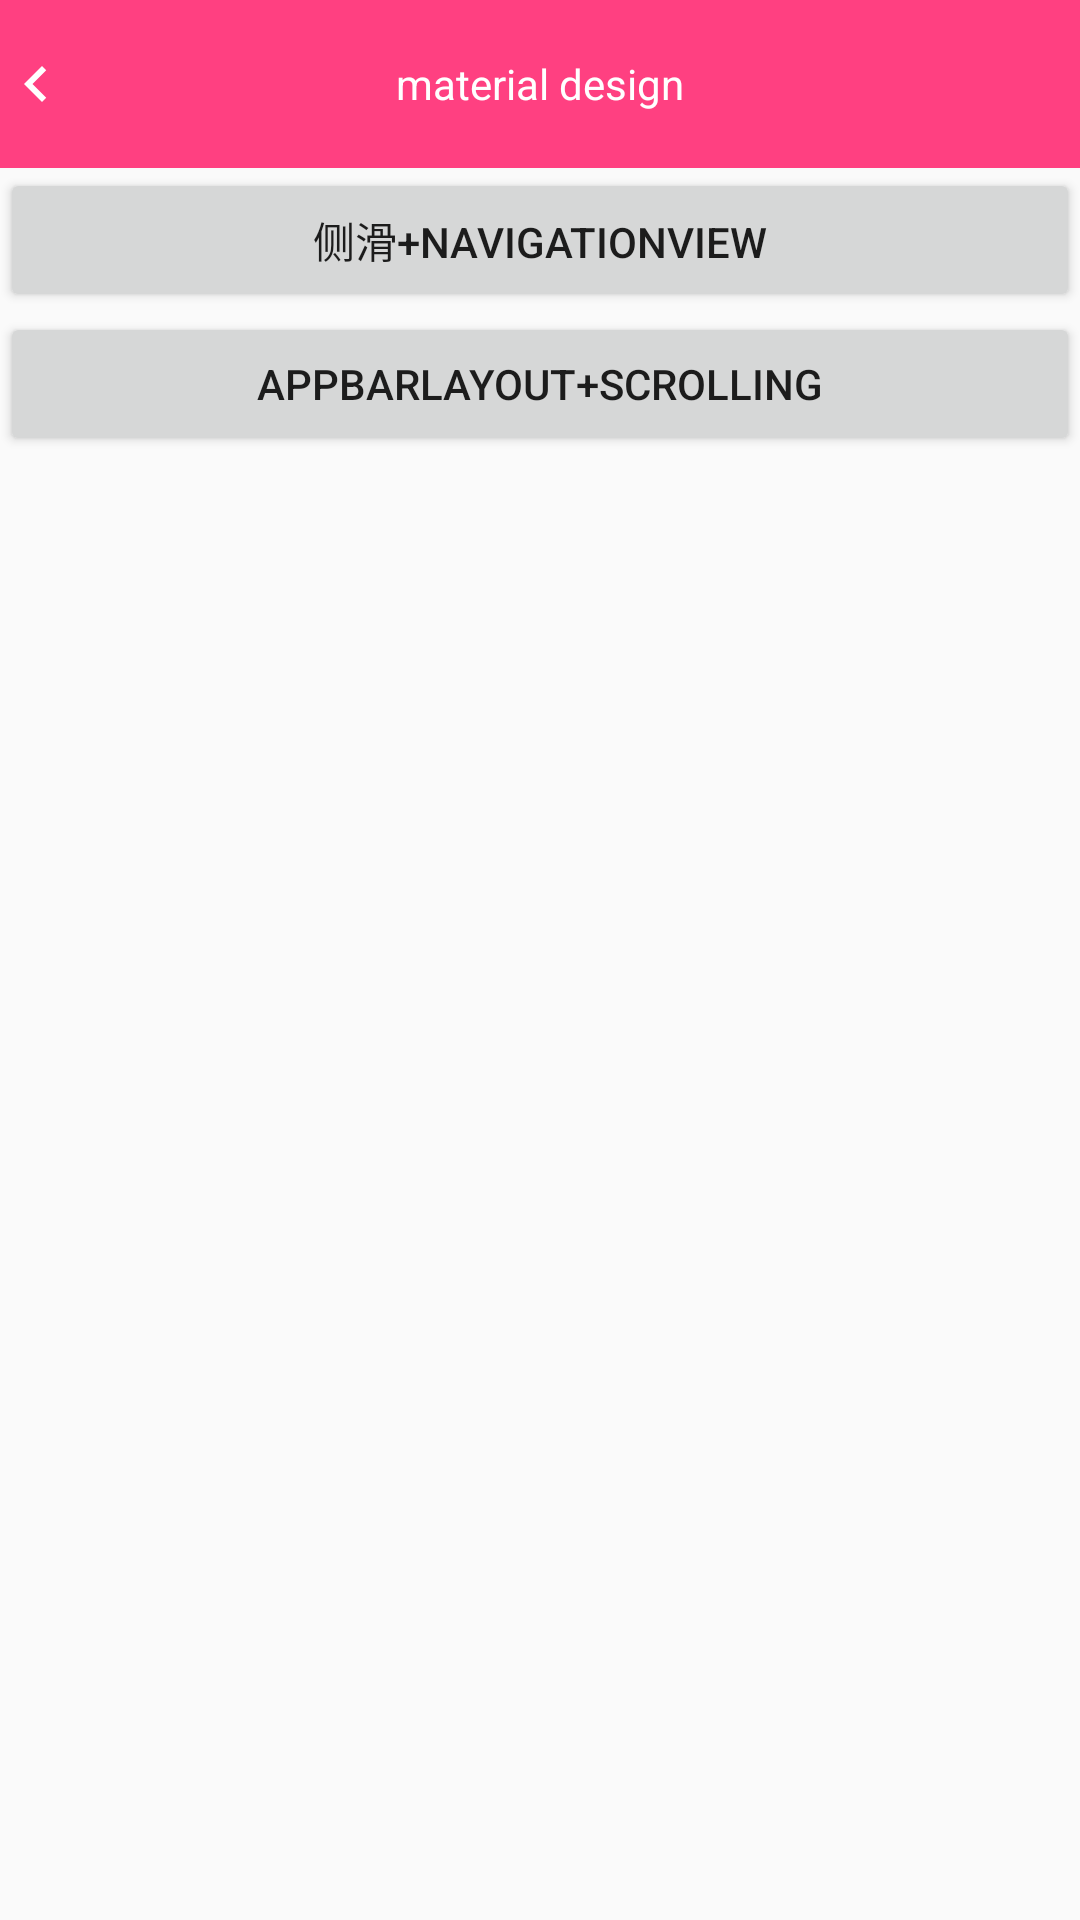

Named icons in this screenshot (1080x1920) and their bounding boxes, detection(x1, y1, x2, y2):
back: detection(24, 66, 46, 102)
